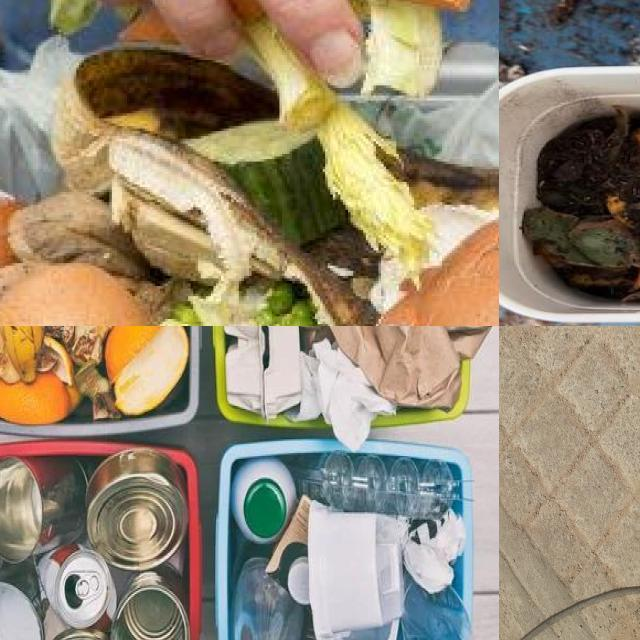Background: (499, 326, 640, 640)
Garbage: (0, 53, 499, 326), (225, 454, 474, 640), (0, 447, 188, 640), (214, 326, 490, 448), (523, 111, 640, 302), (0, 326, 200, 435), (111, 564, 189, 640)
Glass_bottle: (233, 557, 303, 640)
Metal: (0, 449, 188, 640)
Plastic: (307, 502, 407, 640)
Plastic_bottle: (296, 451, 455, 519), (231, 458, 296, 544), (402, 575, 473, 640)
contaminated_waste: (300, 326, 490, 409), (223, 326, 302, 418), (231, 458, 296, 544)
